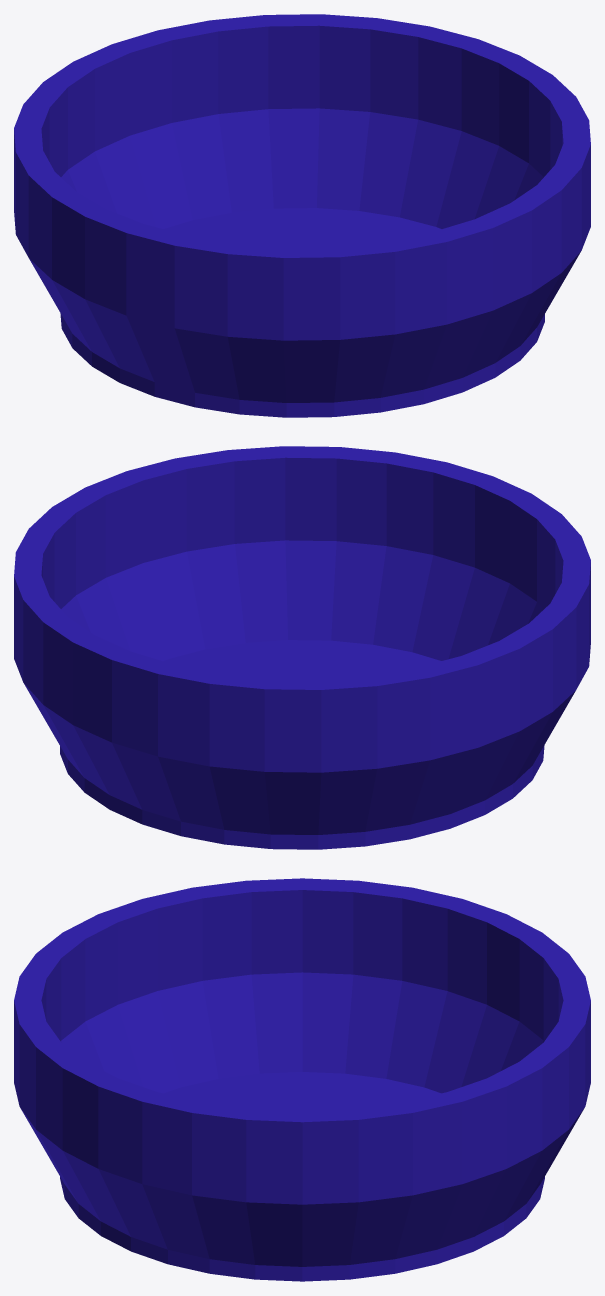
File: Bowl.fbx
3 views of the same model, one above another, from view 1: azimuth 30°, elevation 25°; view 2: azimuth 150°, elevation 25°; view 3: azimuth 270°, elevation 25° (orthographic).
Visible parts, largest first — view 1: Cylinder; view 2: Cylinder; view 3: Cylinder.
Boxes of the visible parts, x1,y1,x2,y2 form: Cylinder: [14, 14, 590, 417]; Cylinder: [14, 446, 590, 849]; Cylinder: [14, 878, 590, 1281].
Size of the model in its own units: 238 by 81.41 by 238.
